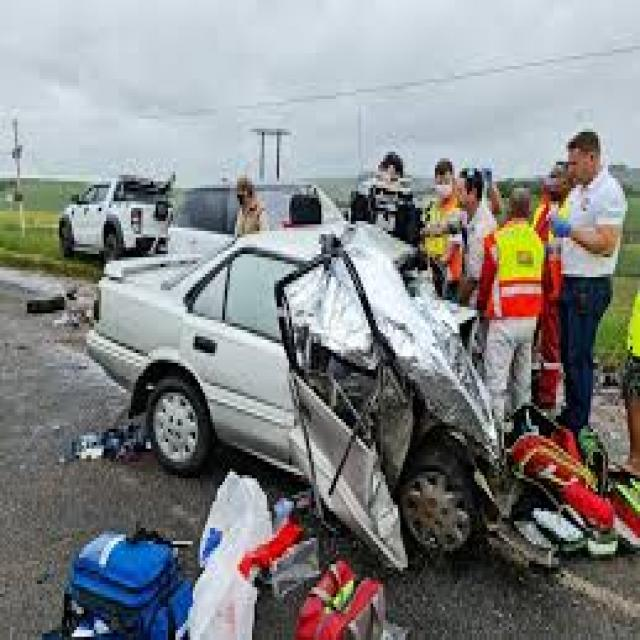accident: (103, 227, 509, 560)
